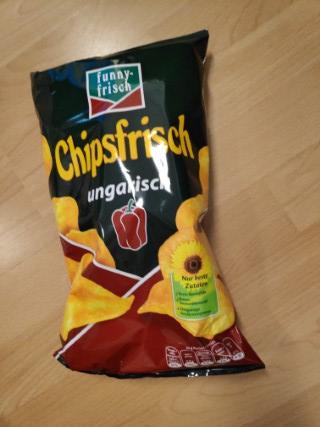chipsfrisch: (29, 28, 266, 380)
